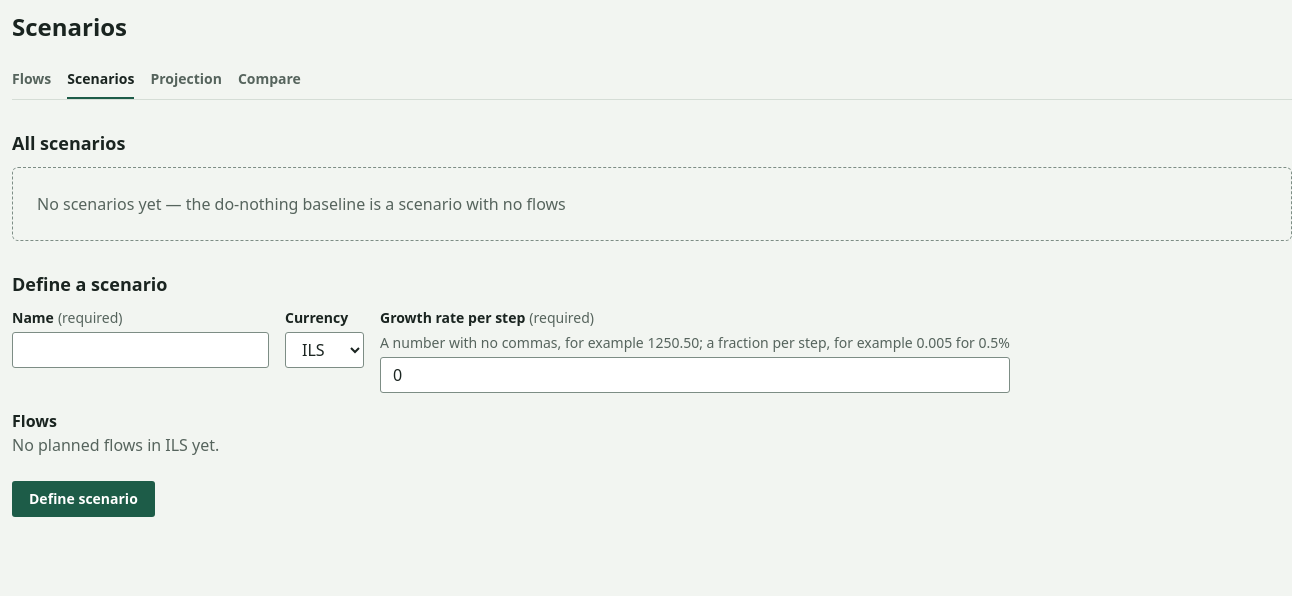
Test: ScenariosPage define-scenario form › Given_a_rule_violated_422_When_defined_Then_the_server_detail_is_shown
The width and height of the screenshot is (1292, 596).
Expected: the heading "Define a scenario" is shown, [12,272,168,296]
Type "Aggressive saving" into the field labelled "Name" at (140, 350), box [12,332,269,368]
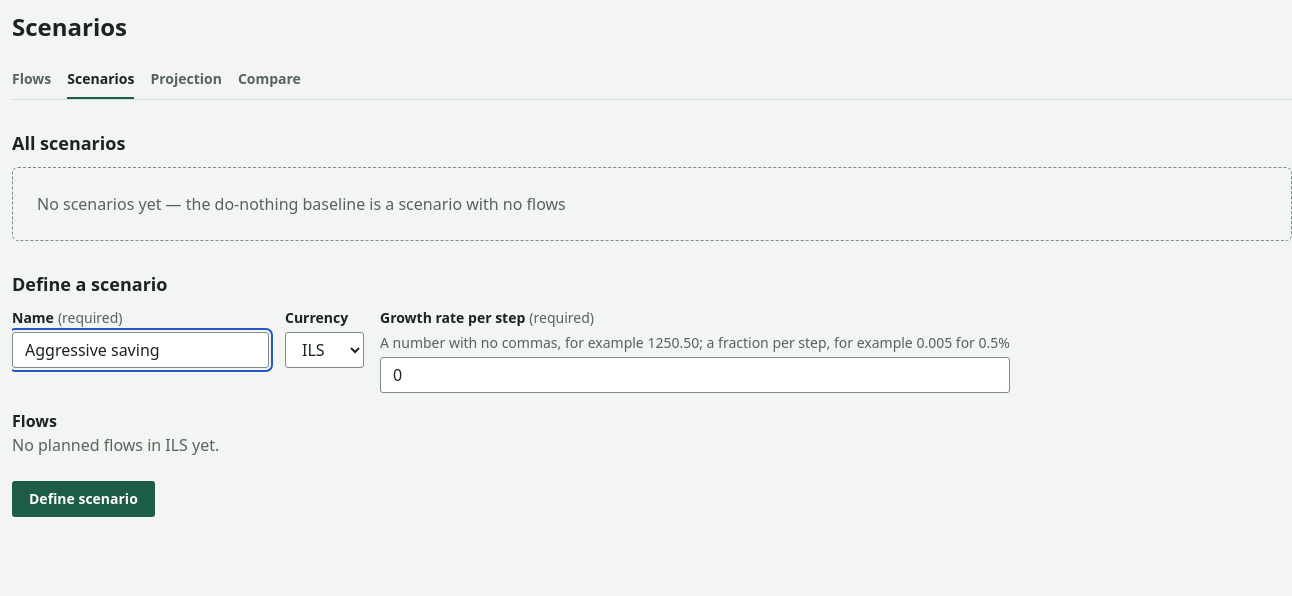
Click the button "Define scenario" at (83, 499), box [12,481,155,517]
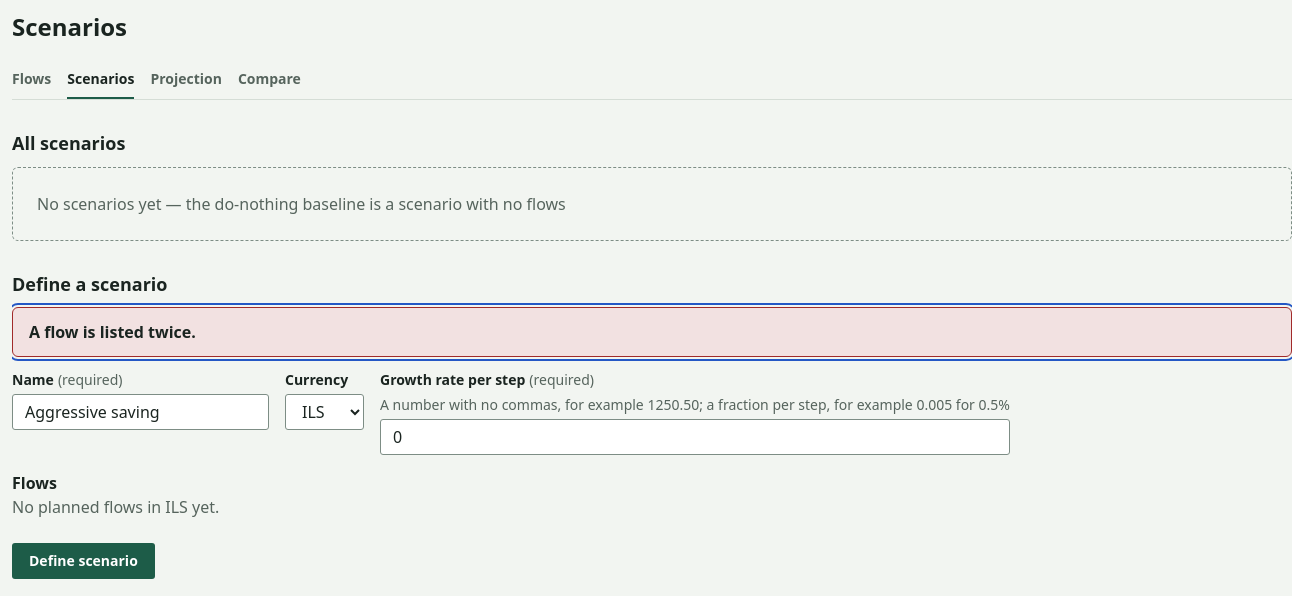
Now the text "A flow is listed twice." is shown, box [29,321,196,343]
